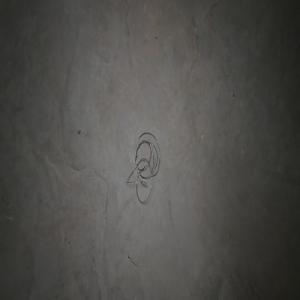Wire: (126, 132, 159, 202)
